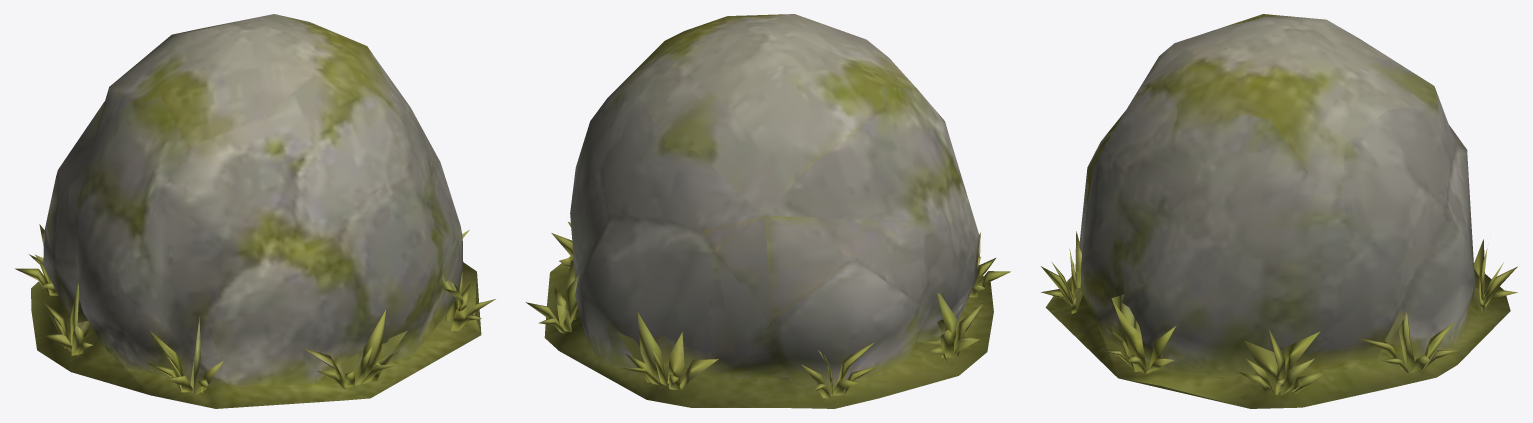
The model's file is rock.glb.
The picture shows the model from 3 angles, left to right: view 1: azimuth 30°, elevation 25°; view 2: azimuth 150°, elevation 25°; view 3: azimuth 270°, elevation 25°; orthographic projection.
Bounding box in the file's own units: 0.957 × 0.6085 × 0.9438.
1 material, 1 textured.
